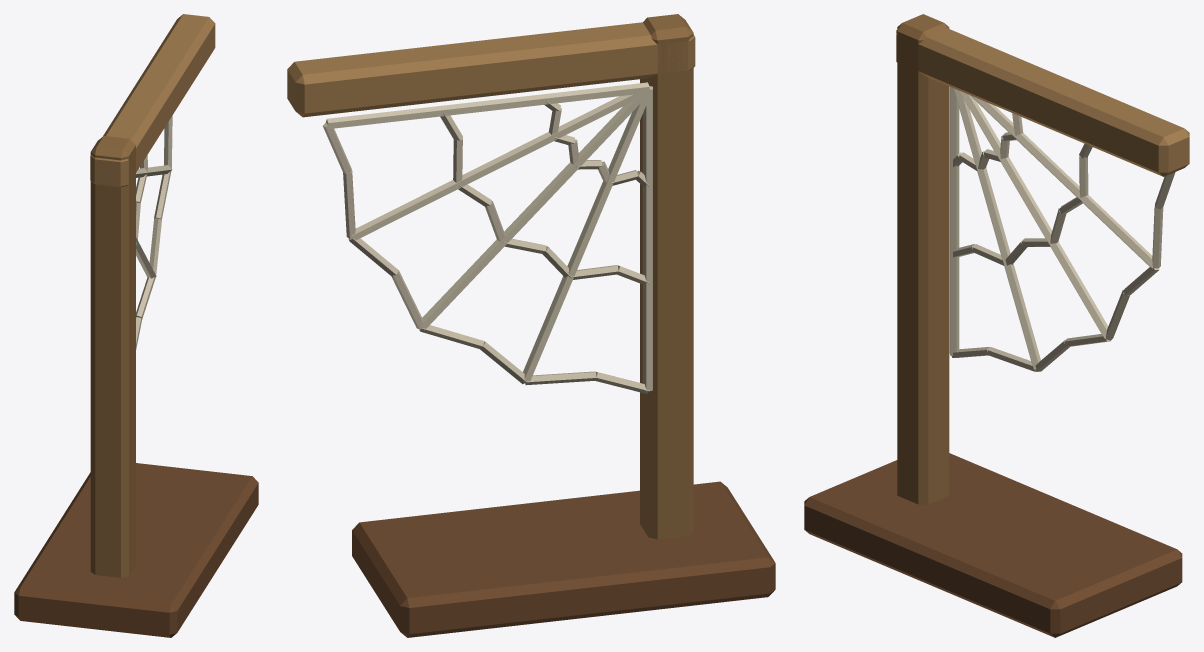
File: SupportedCobweb.glb
3 renders of one model, left to right at view 1: azimuth 30°, elevation 25°; view 2: azimuth 150°, elevation 25°; view 3: azimuth 270°, elevation 25°, orthographic. The views are drawn at different scales.
Visible parts, largest first — view 1: SupportedCobweb_Arrangement; view 2: SupportedCobweb_Arrangement; view 3: SupportedCobweb_Arrangement.
Part boxes in pixels (box(x1,y1,x2,y2)): SupportedCobweb_Arrangement: box(14, 14, 258, 637); SupportedCobweb_Arrangement: box(287, 14, 775, 637); SupportedCobweb_Arrangement: box(804, 14, 1189, 637).
Bounding box in the file's own units: 0.6601 × 0.96 × 0.6601.
